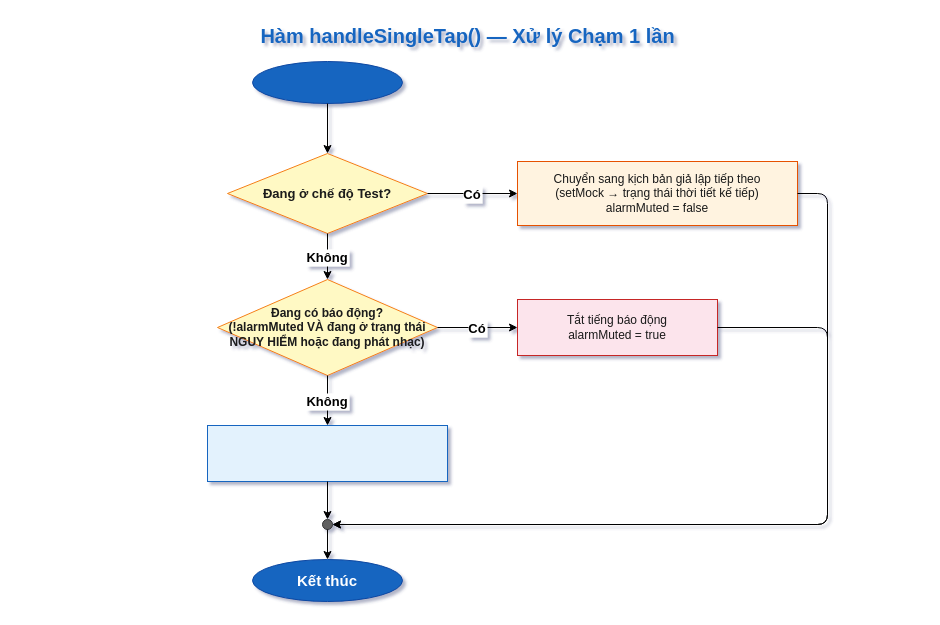
Some shapes in this 940 by 625 pixel diagram are drawn without their labels. Each missing label, with the box of its shape:
Bật / Tắt màn hình thông số môi trường Phát tiếng bíp xác nhận: (206, 424, 448, 482)
Bắt đầu: (252, 60, 402, 104)
